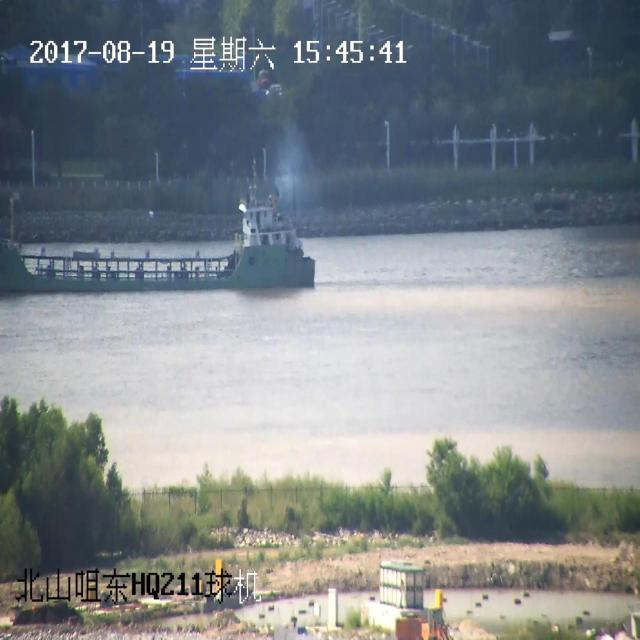houseboat: (6, 182, 331, 290)
